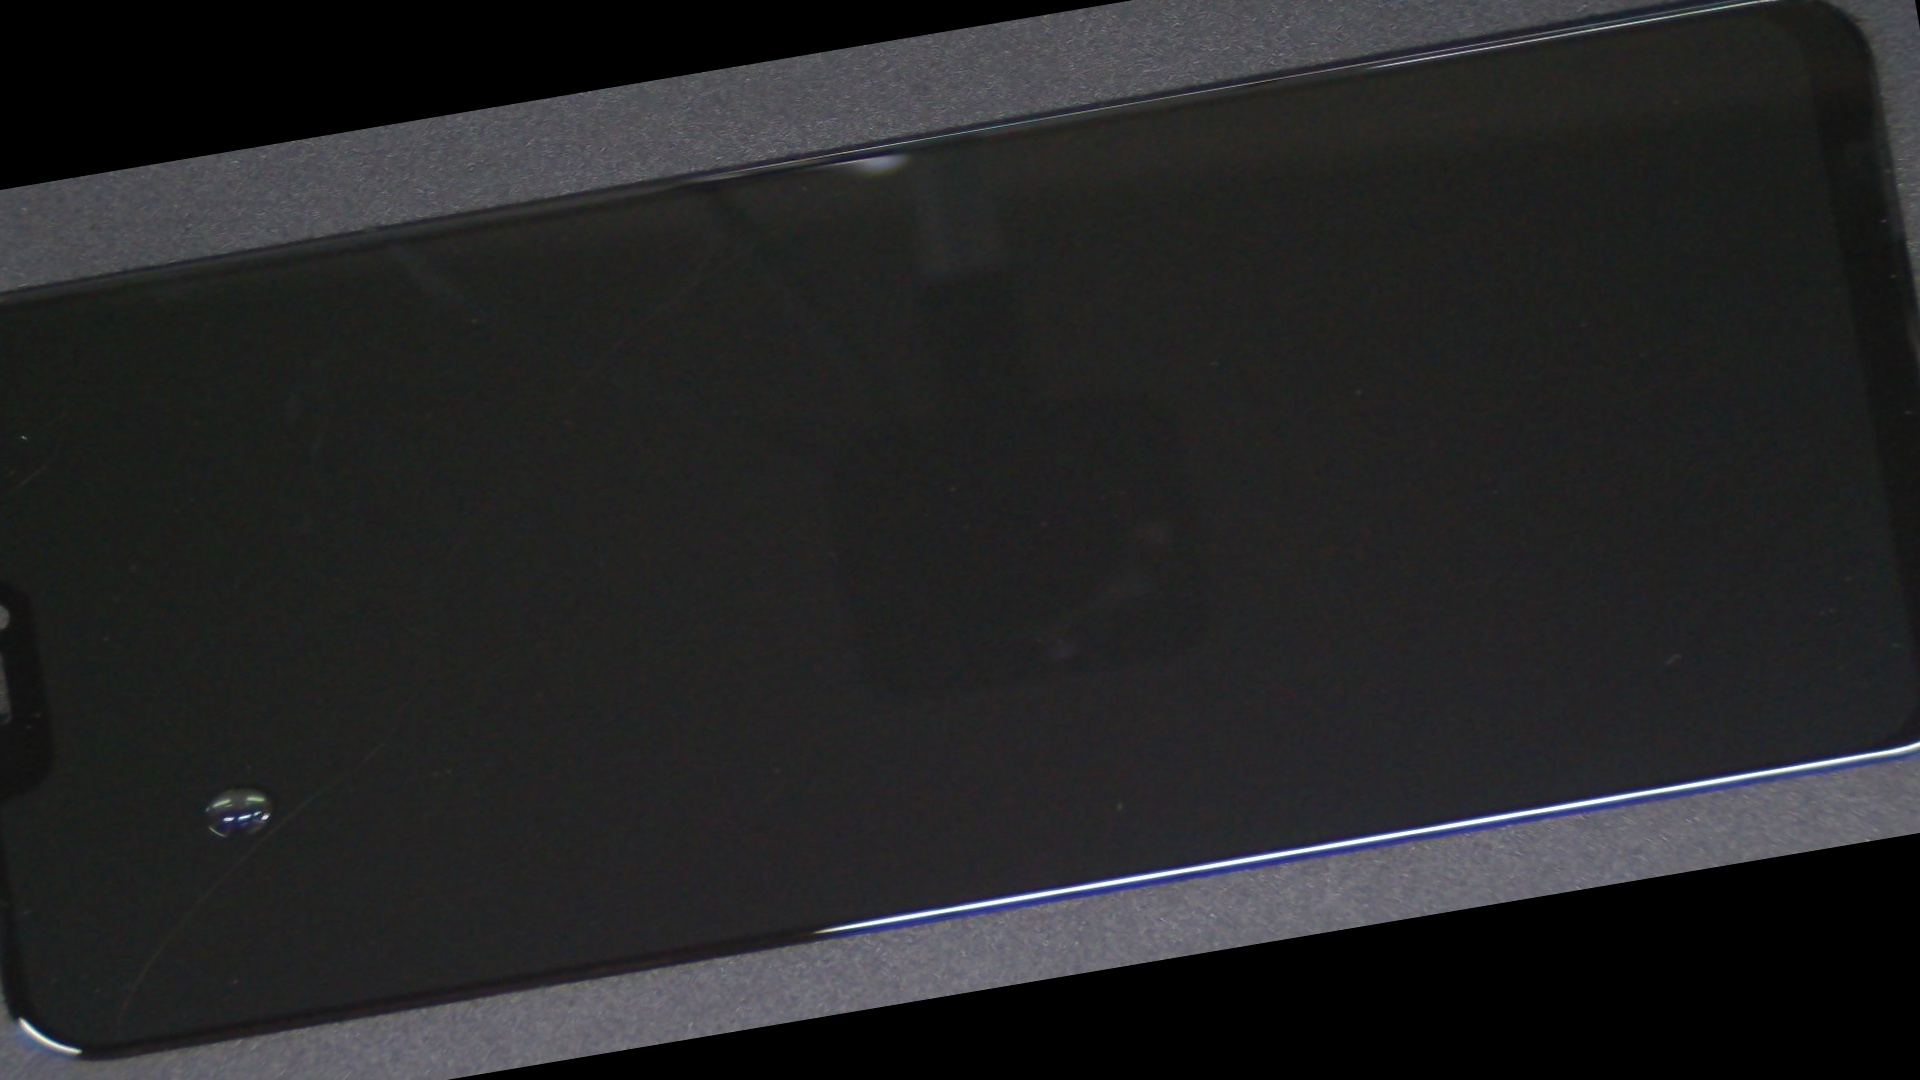oil: (42, 454, 422, 1080)
